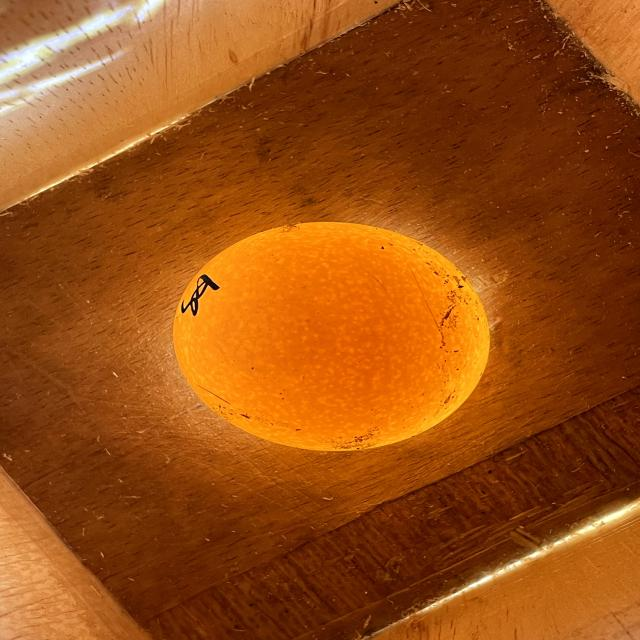infertile: (173, 222, 490, 451)
